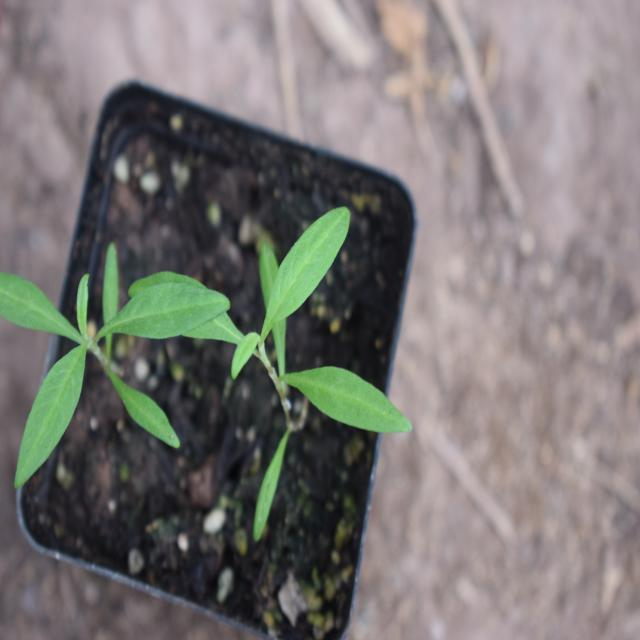white_smart_weed: (204, 180, 429, 518), (0, 229, 214, 469)
